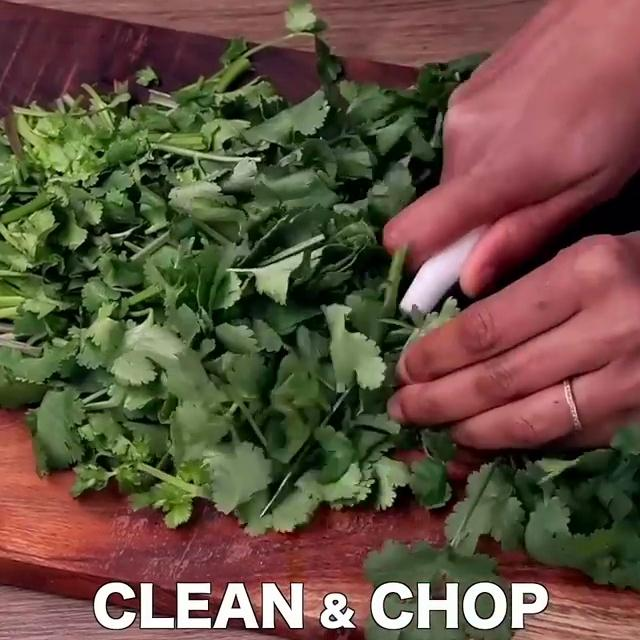cilantro: (0, 85, 356, 485)
